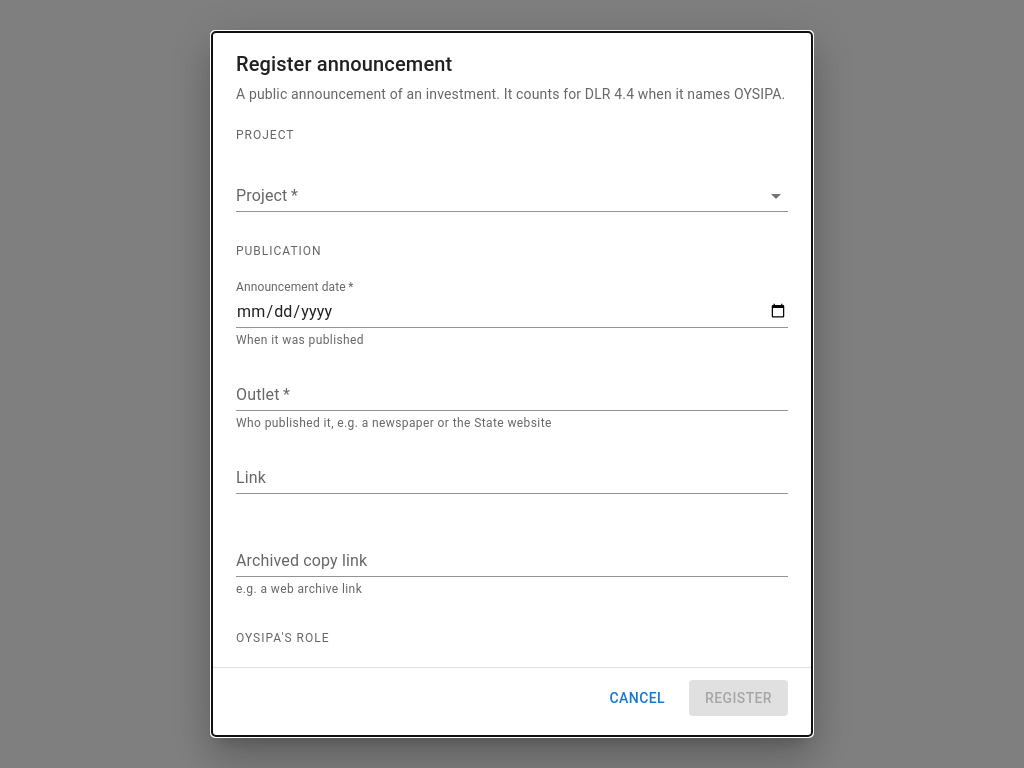
Test: AnnouncementForm › Staff only see projects of investors assigned to them
This screenshot has width=1024, height=768.
Click the dropdown labelled "Project *" at (497,195), box [236,180,758,211]
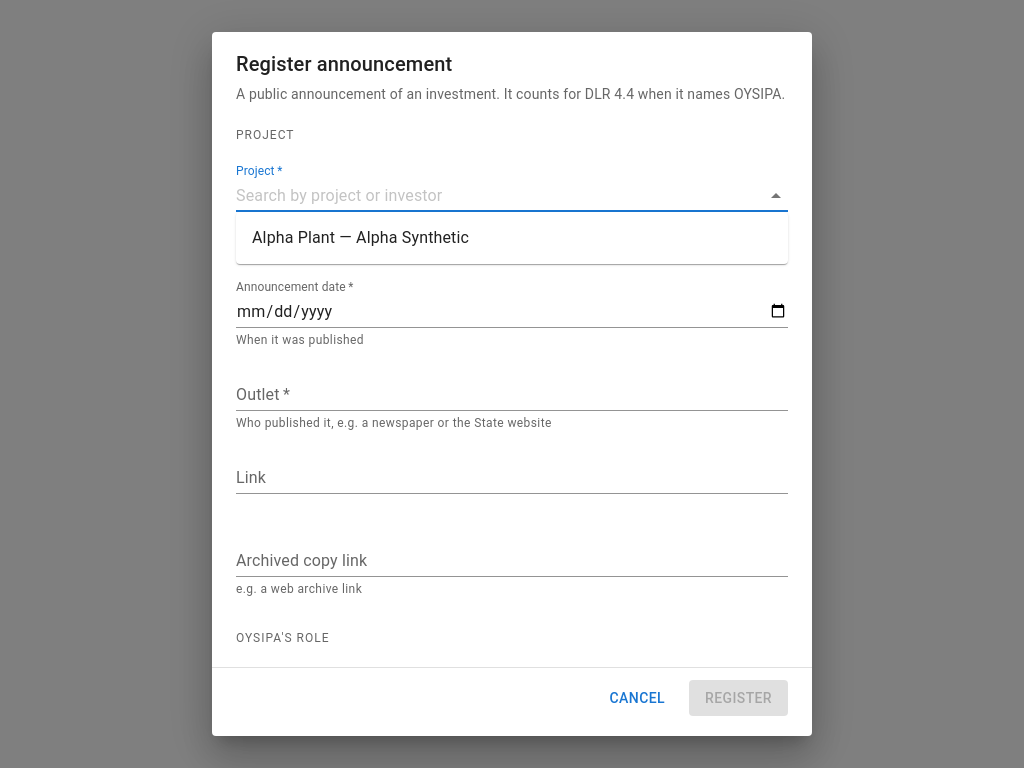
Result: the option "Alpha Plant — Alpha Synthetic" is shown at [252,228,469,247]
